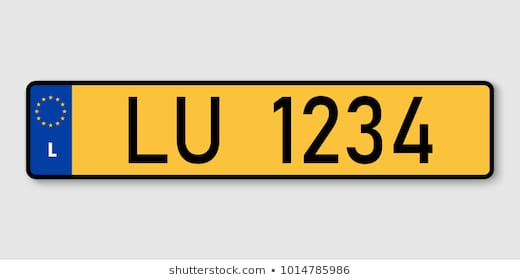number_plate: (25, 79, 497, 181)
